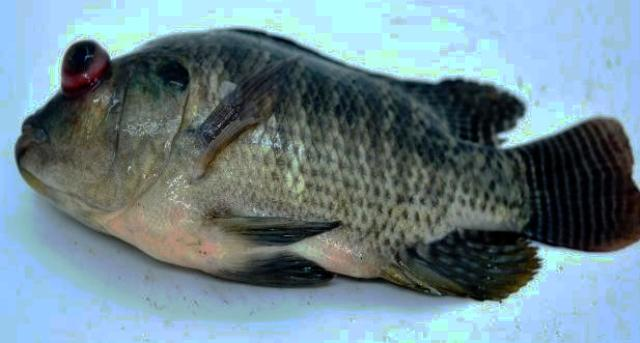Streptococcus: (16, 29, 639, 300)
